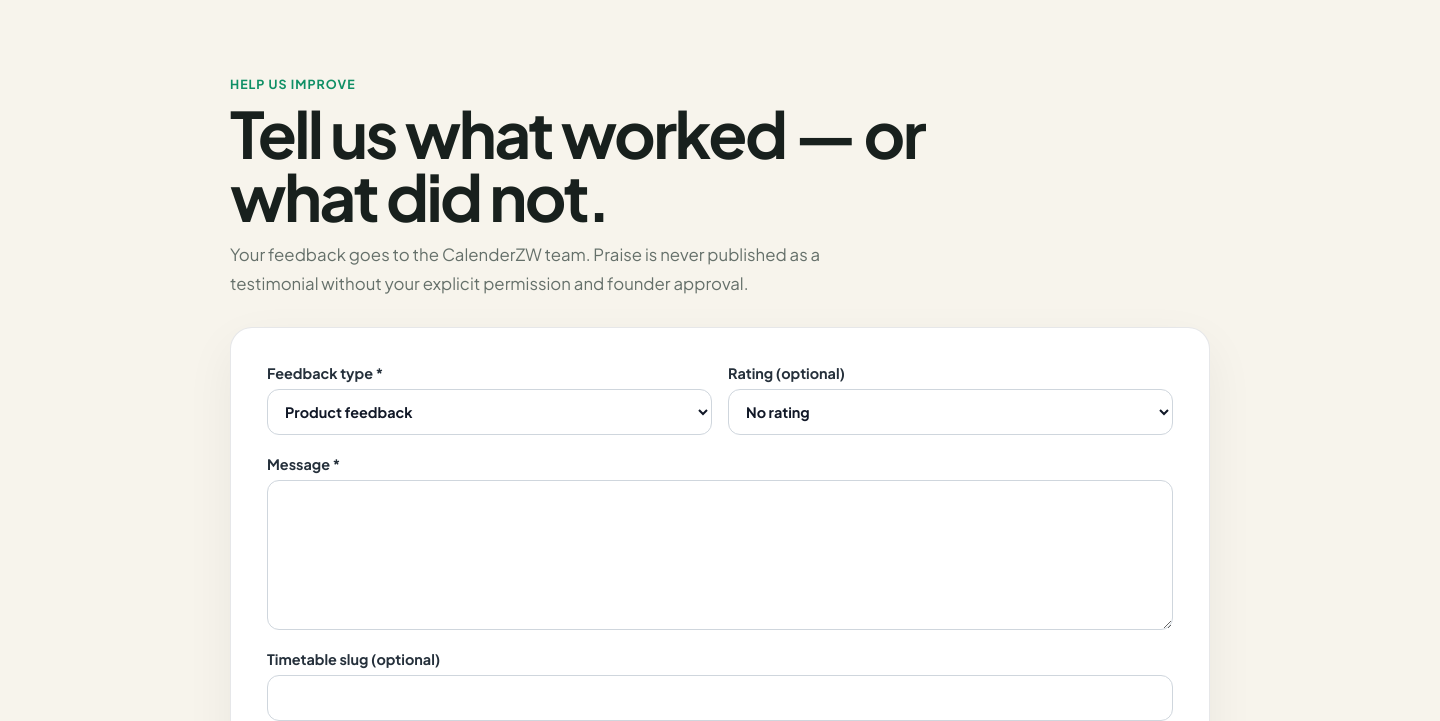
growth capture submission reliability › preserves feedback fields after a network failure
Type "Keep this text offline" into the text box labelled "Message *" at coordinates (720, 554), box [267,480,1173,630]
(page scrolled)
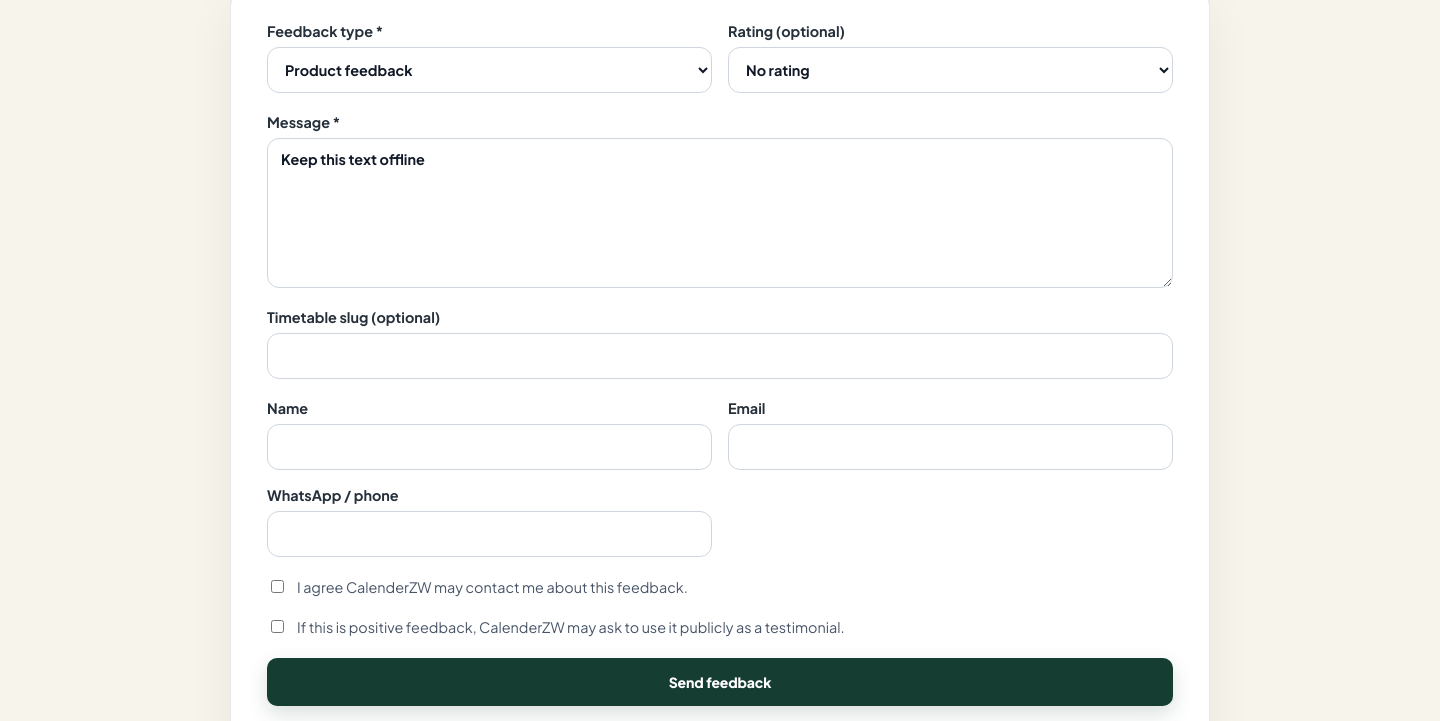
Type "student@example.com" into the field labelled "Email" at coordinates (950, 446), box [728,424,1173,470]
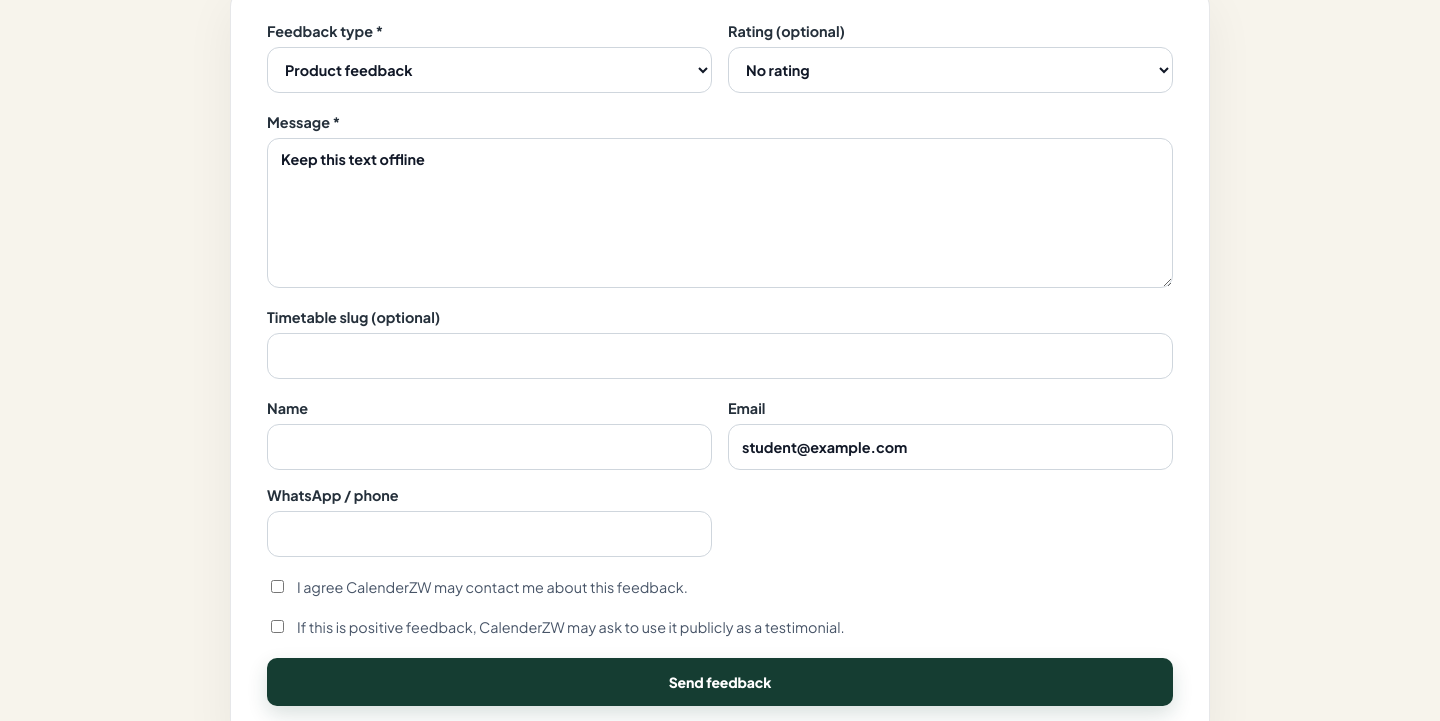
Submit the form named "Send feedback", box [267,22,1173,706]
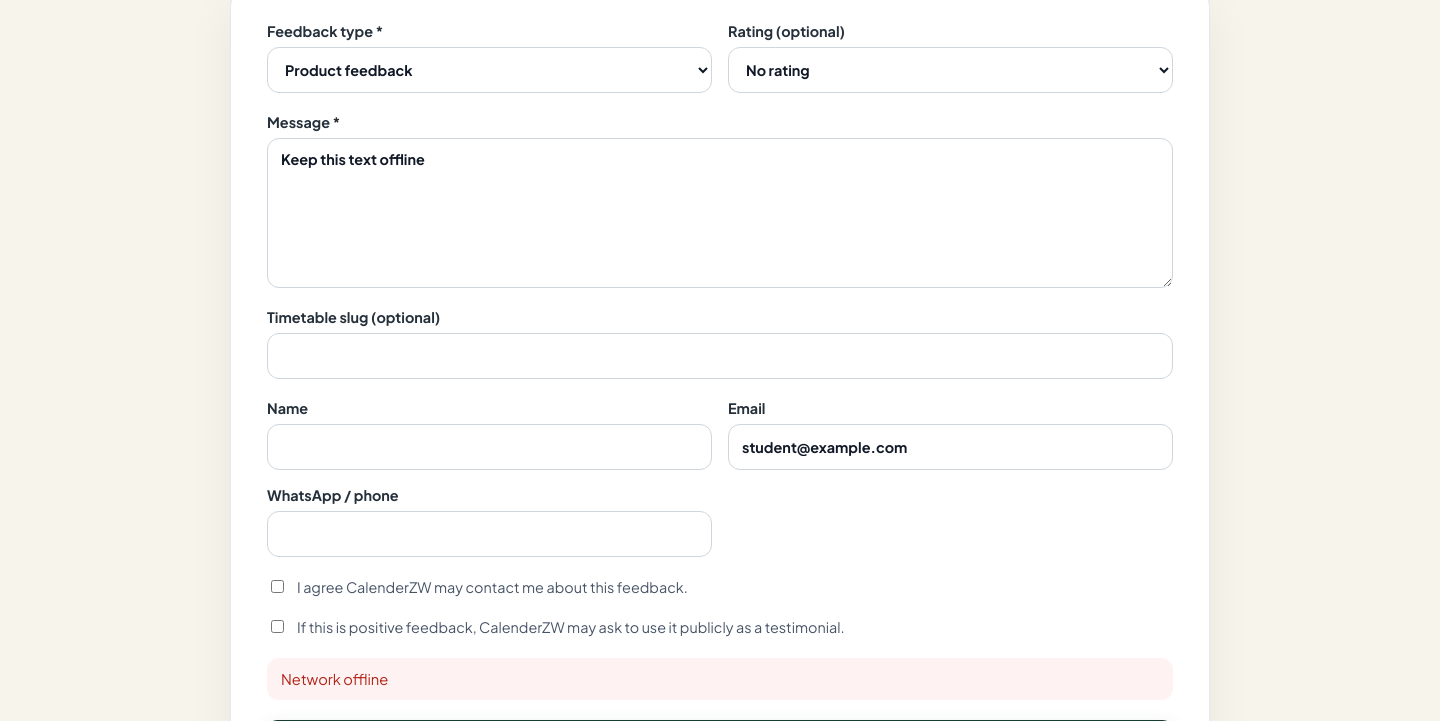
Expected: the message reads "Network offline", [281,670,388,688]
